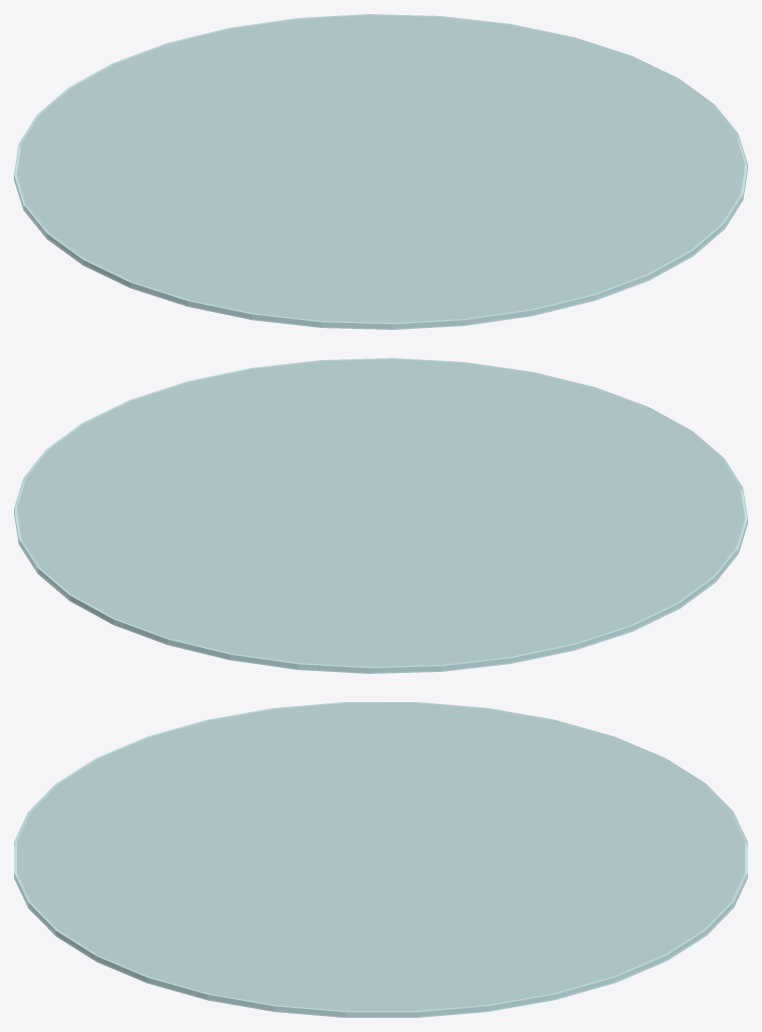
Rendered from floor.glb.
3 renders of one model, top to bottom at view 1: azimuth 30°, elevation 25°; view 2: azimuth 150°, elevation 25°; view 3: azimuth 270°, elevation 25°, orthographic.
Parts seen in each view (by area): view 1: 円; view 2: 円; view 3: 円.
Part boxes in pixels (box(x1,y1,x2,y2)): 円: box(14, 14, 747, 329); 円: box(14, 358, 747, 673); 円: box(14, 702, 747, 1017).
Bounding box in the file's own units: 33.84 × 0.3032 × 33.84.
